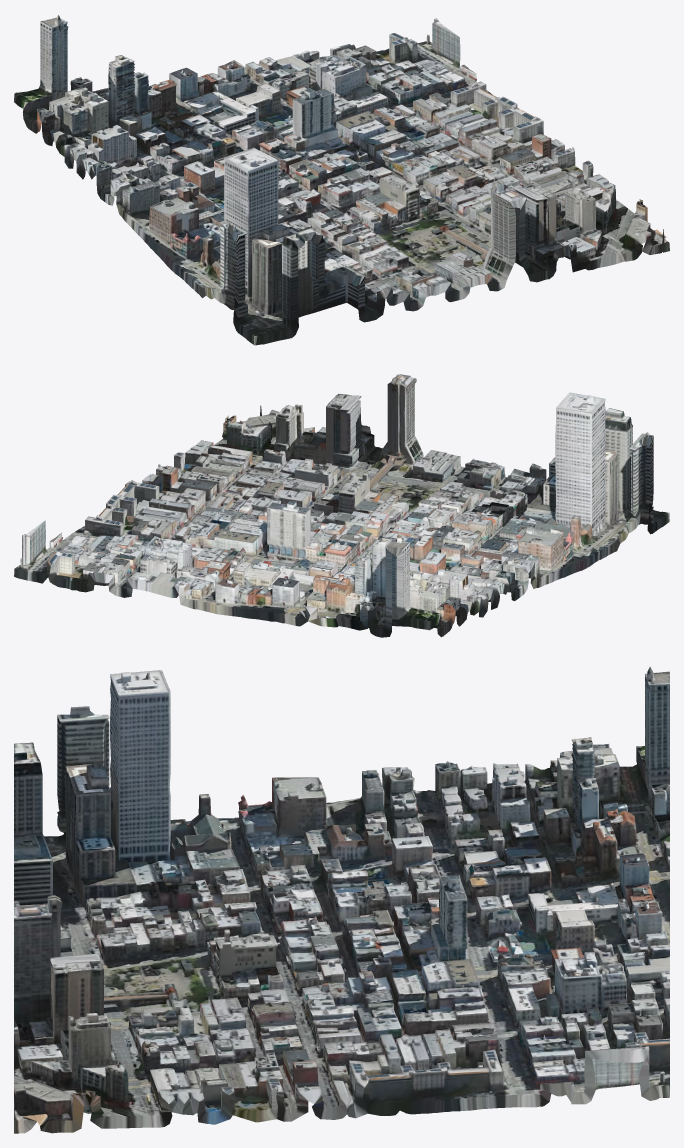
File: z16-10484-25326-h0-yup-uvflip-v3-world.glb
The picture shows the model from 3 angles, top to bottom: view 1: azimuth 30°, elevation 25°; view 2: azimuth 150°, elevation 25°; view 3: azimuth 270°, elevation 25°; orthographic projection. The views are drawn at different scales.
Size of the model in its own units: 484 by 177 by 485.
1 material, 1 textured.
